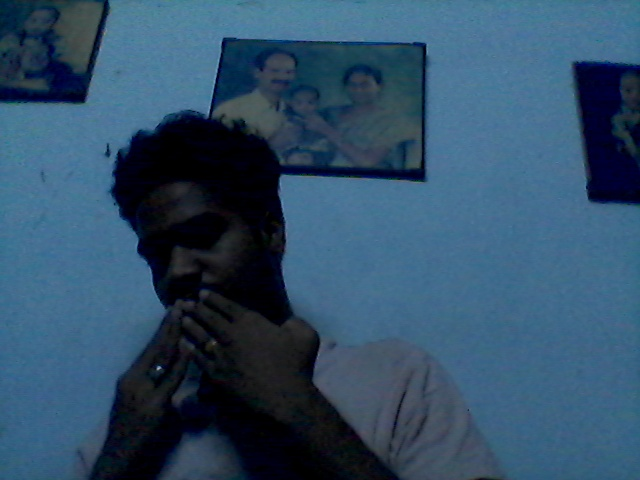Hi: (94, 278, 337, 472)
